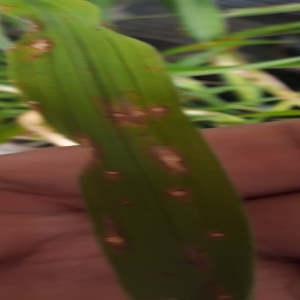Rice_Blast: (145, 134, 192, 179), (100, 97, 149, 131), (26, 30, 62, 64), (96, 224, 127, 253), (165, 183, 200, 204), (203, 223, 233, 246), (151, 92, 171, 124), (96, 163, 126, 182)
